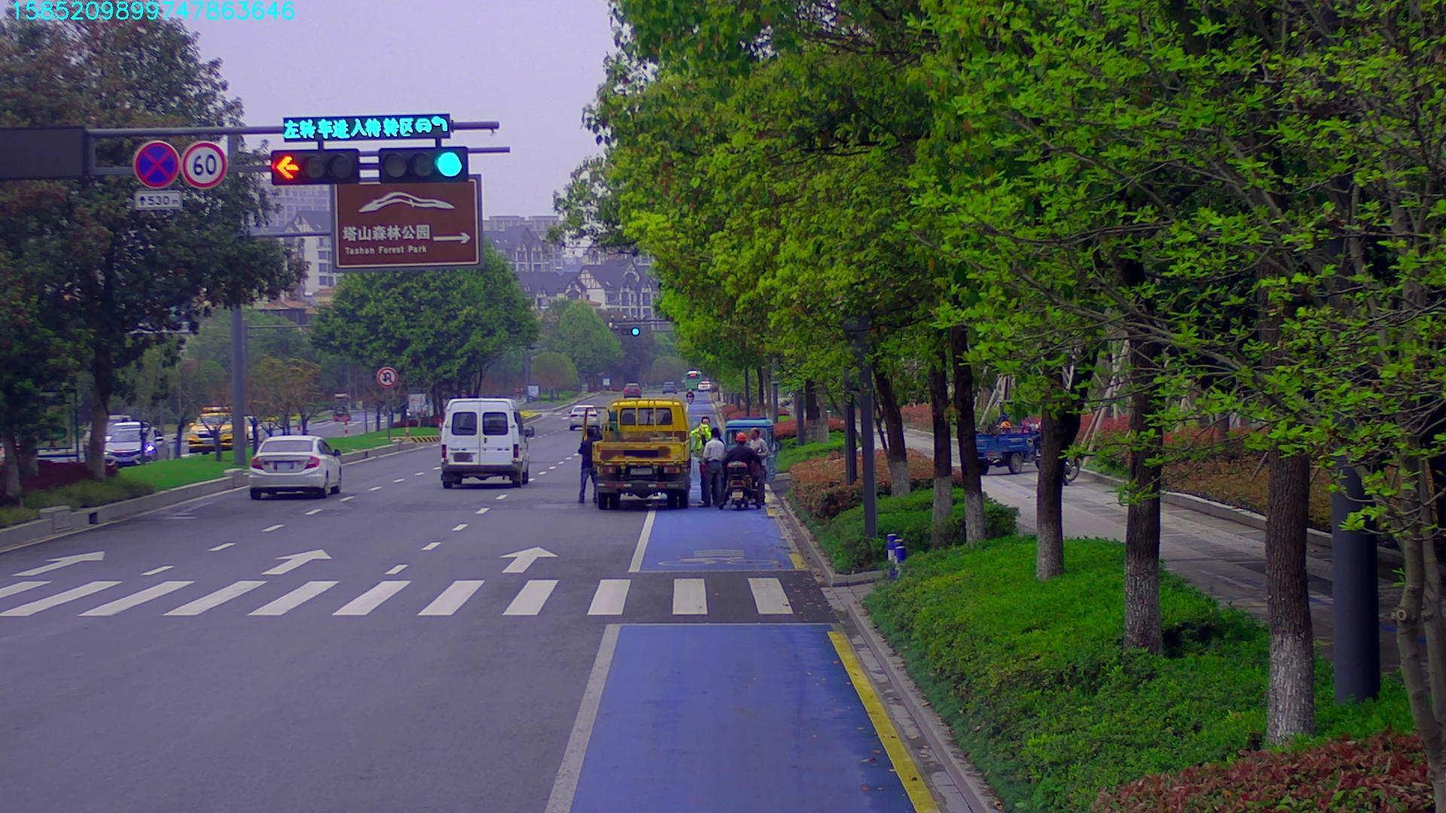green: (374, 145, 479, 179)
red: (267, 153, 365, 184)
wait_on: (275, 115, 458, 139)
